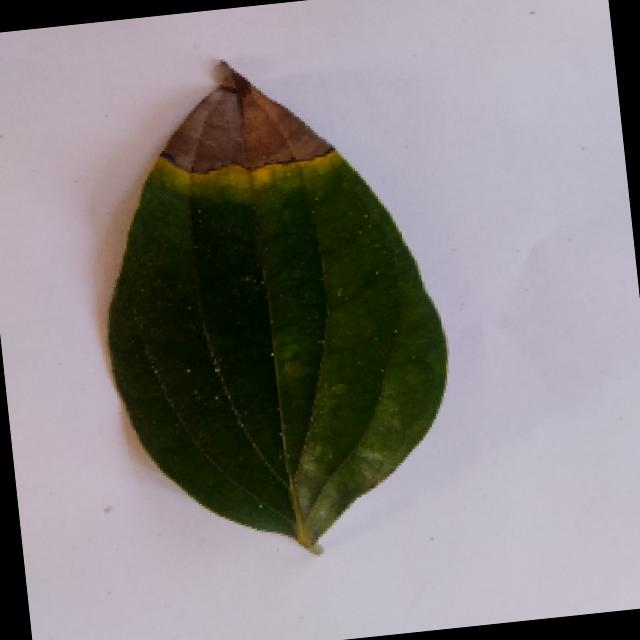footrot: (73, 39, 464, 574)
